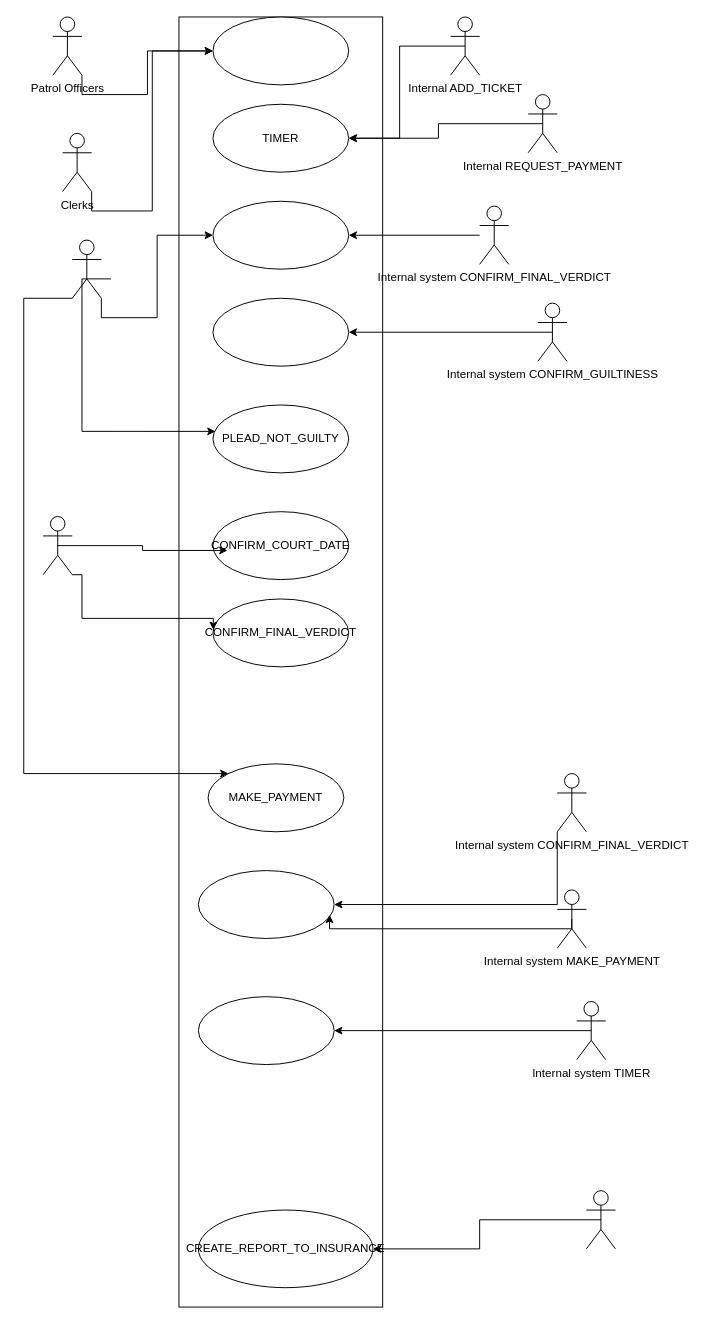
The diagram is 705 pixels wide and 1324 high, and some of its shapes have lost their labels. The shapes that lost their labels are listed below. From the top down, each one's centre as x and y in pixels, then its label:
the point at 280,50: ADD_TICKET
the point at 280,234: CONFIRM_GUILTINESS
the point at 86,268: Drivers
the point at 280,331: REQUEST_PAYMENT
the point at 57,545: Court
the point at 265,904: CASE_CLOSED
the point at 265,1030: SEND_REMINDER
the point at 600,1219: Internal system CASE_CLOSED
